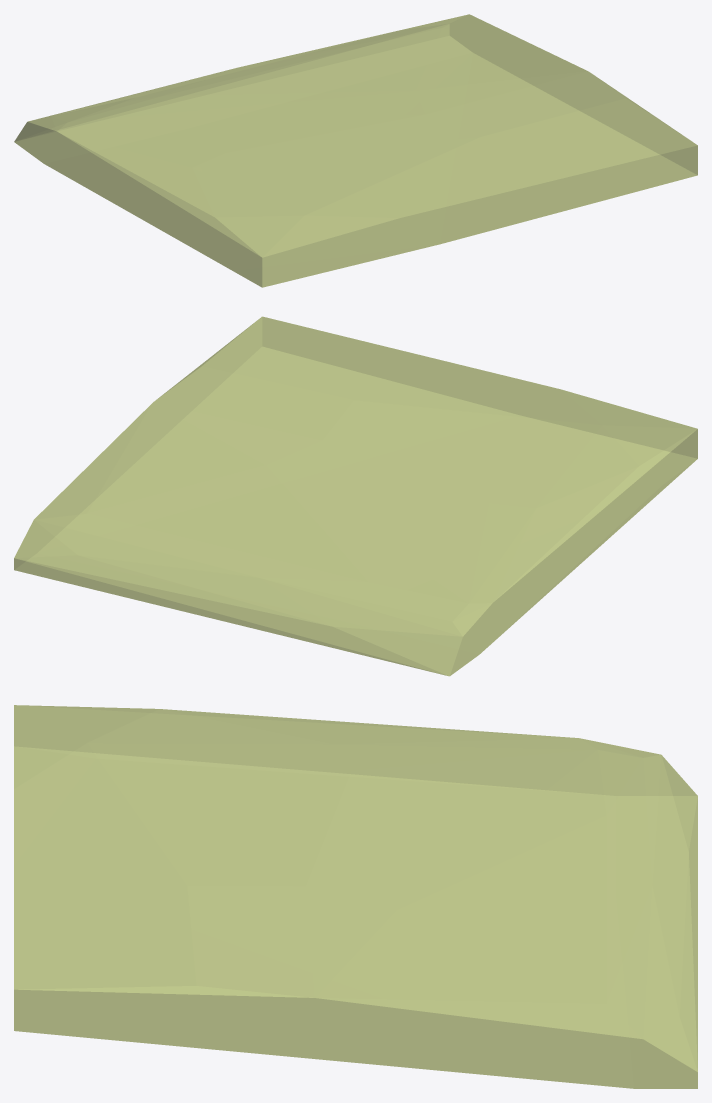
The picture shows the model from 3 angles, top to bottom: view 1: azimuth 30°, elevation 25°; view 2: azimuth 150°, elevation 25°; view 3: azimuth 270°, elevation 25°; orthographic projection. The views are drawn at different scales.
Visible parts, largest first — view 1: Shape_IndexedFaceSet.002_Shape_IndexedFaceSet.2963; view 2: Shape_IndexedFaceSet.002_Shape_IndexedFaceSet.2963; view 3: Shape_IndexedFaceSet.002_Shape_IndexedFaceSet.2963.
Part boxes in pixels (x1,y1,x2,y2): Shape_IndexedFaceSet.002_Shape_IndexedFaceSet.2963: (14, 14, 697, 287); Shape_IndexedFaceSet.002_Shape_IndexedFaceSet.2963: (14, 316, 697, 676); Shape_IndexedFaceSet.002_Shape_IndexedFaceSet.2963: (14, 705, 697, 1088).
Size of the model in its own units: 0.1776 by 0.0281 by 0.1753.
